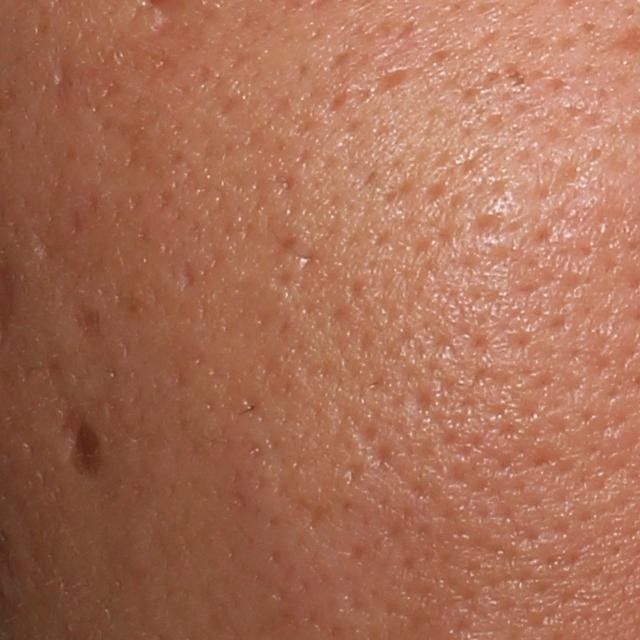atrophic_scar: (27, 210, 68, 271), (365, 63, 418, 104), (174, 263, 202, 290), (54, 55, 70, 94)
